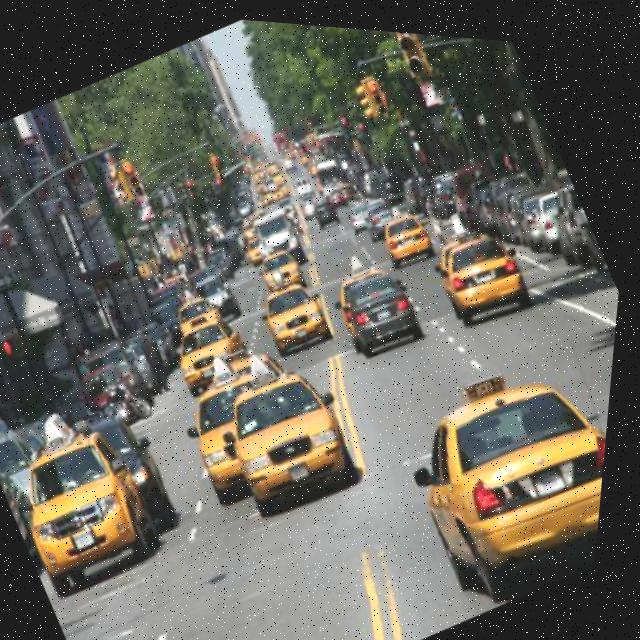license_plate: (538, 453, 576, 490), (80, 524, 109, 550), (296, 453, 322, 479), (480, 260, 500, 276), (206, 360, 223, 378), (381, 298, 398, 316), (404, 226, 419, 241), (300, 320, 314, 332)
